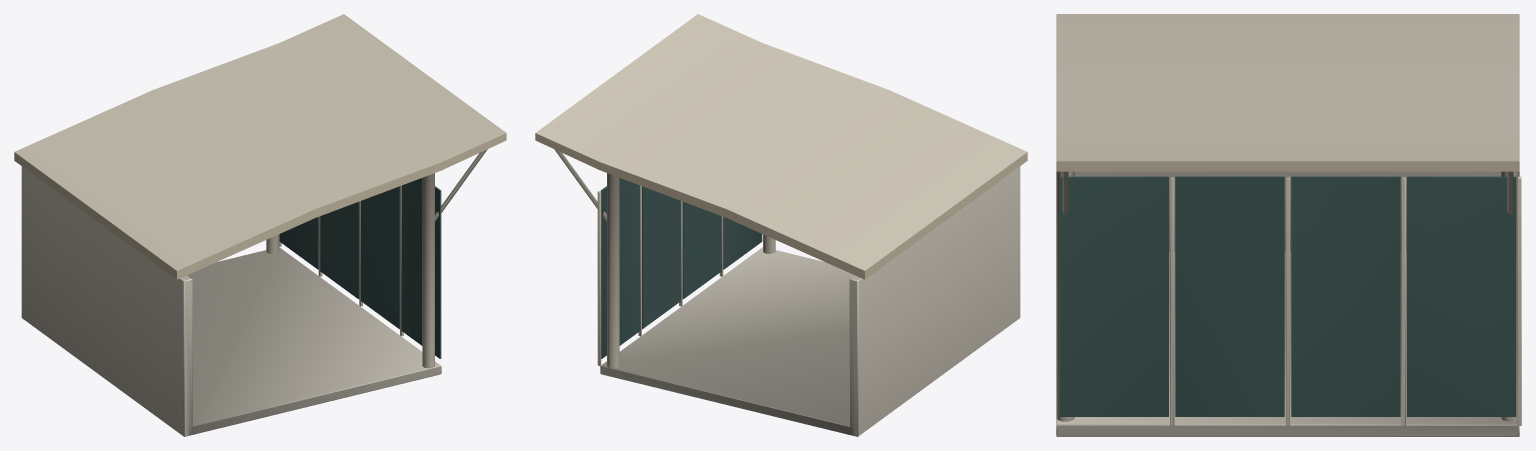
Rendered from terminal_bay.glb.
3 renders of one model, left to right at view 1: azimuth 30°, elevation 25°; view 2: azimuth 150°, elevation 25°; view 3: azimuth 270°, elevation 25°, orthographic. The views are drawn at different scales.
Visible parts, largest first — view 1: terminal_bay_mesh; view 2: terminal_bay_mesh; view 3: terminal_bay_mesh.
Boxes of the visible parts, x1,y1,x2,y2 form: terminal_bay_mesh: (14,14,506,436); terminal_bay_mesh: (535,14,1027,436); terminal_bay_mesh: (1056,14,1521,436).
Bounding box in the file's own units: 11.7 × 7.65 × 10.05.
